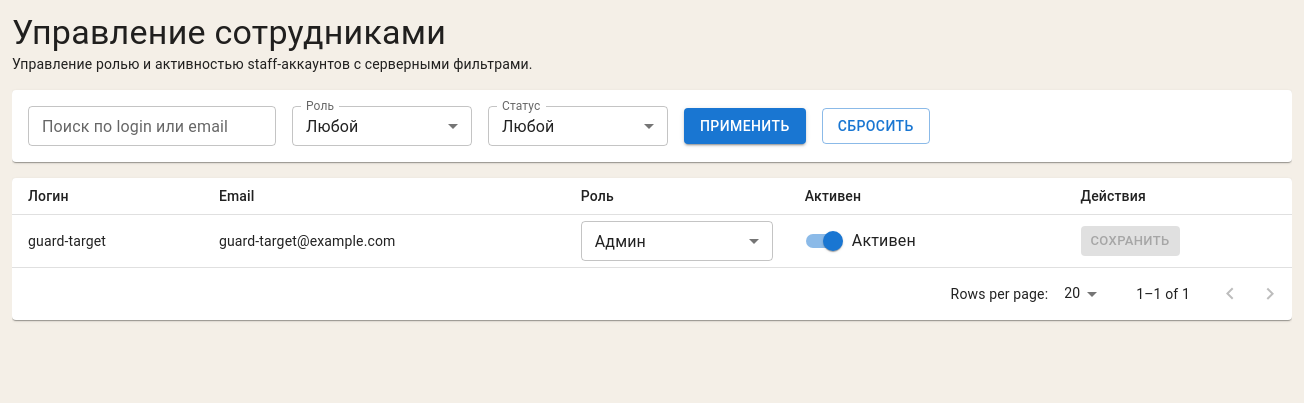
AdminStaffManagementPage › maps 409 reason-code to localized error message
This screenshot has width=1304, height=403.
Expected: the text "guard-target" is shown, [12,214,203,268]
Click the checkbox labelled "Активен" at x=861, y=241, box [806,231,916,251]
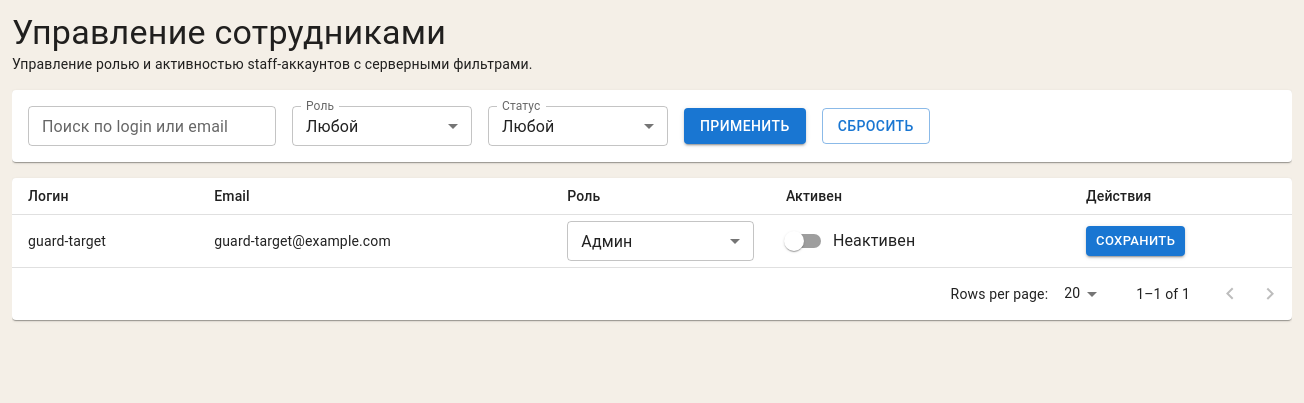
Click the button "Сохранить" at x=1136, y=241, box [1086,226,1185,256]
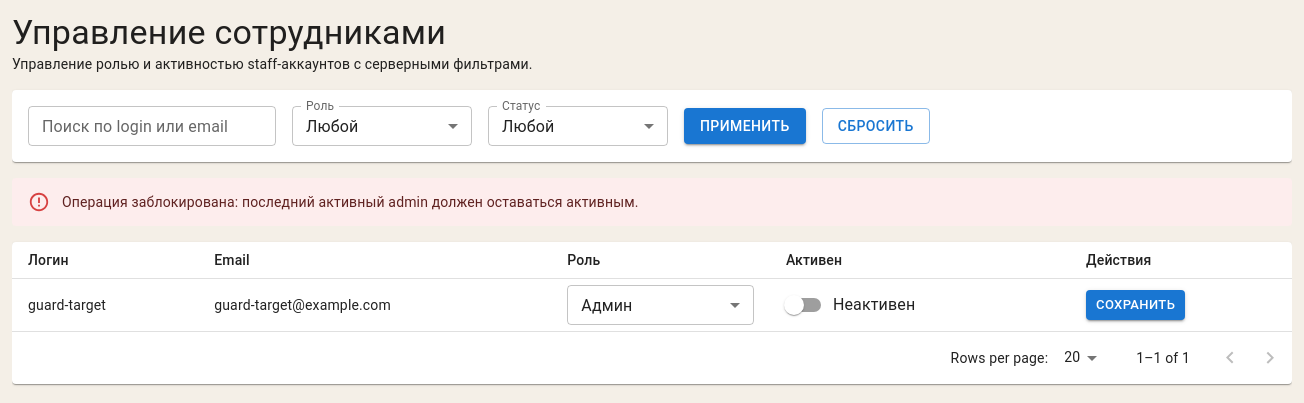
Expected: the text "последний активный admin должен оставаться активным" is shown, [62,194,639,210]
